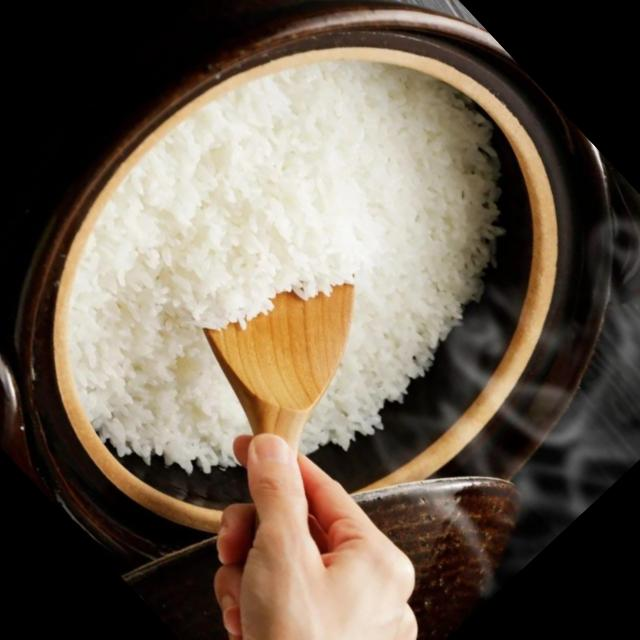rice: (67, 64, 487, 459)
